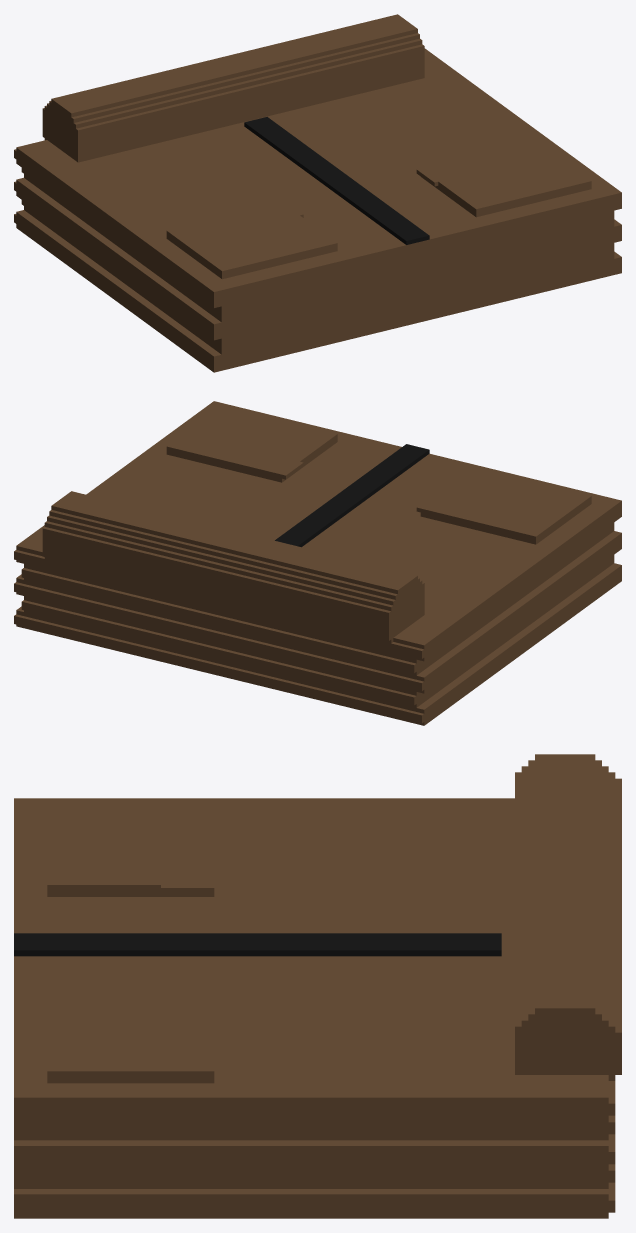
Rendered from duster_fur.glb.
3 renders of one model, top to bottom at view 1: azimuth 30°, elevation 25°; view 2: azimuth 150°, elevation 25°; view 3: azimuth 270°, elevation 25°, orthographic. The views are drawn at different scales.
Parts seen in each view (by area): view 1: duster_fur:compound; view 2: duster_fur:compound; view 3: duster_fur:compound.
Boxes of the visible parts, box(x1,y1,x2,y2) form: duster_fur:compound: box(14, 14, 621, 372); duster_fur:compound: box(14, 401, 621, 725); duster_fur:compound: box(14, 754, 621, 1218).
Bounding box in the file's own units: 0.424 × 0.124 × 0.364.
